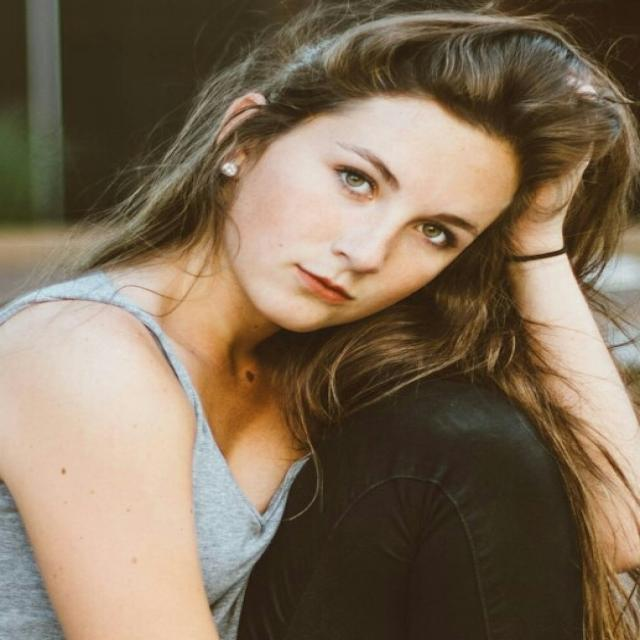front: (272, 104, 470, 330)
